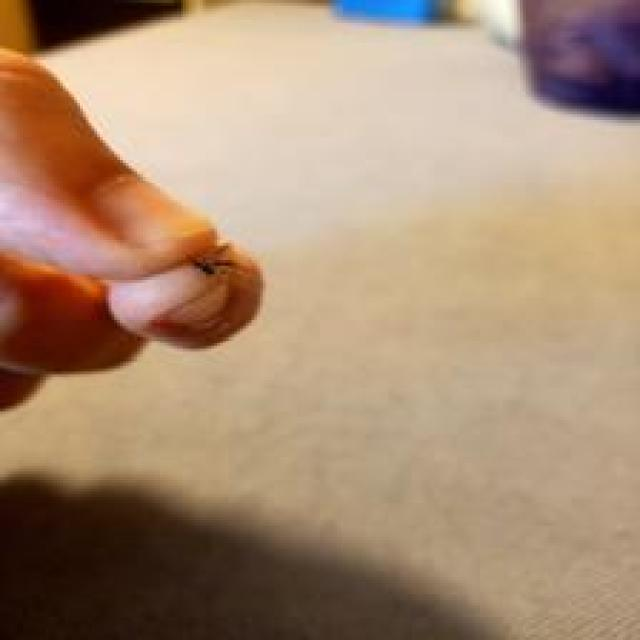Aedes albopictus: (514, 0, 640, 120)
